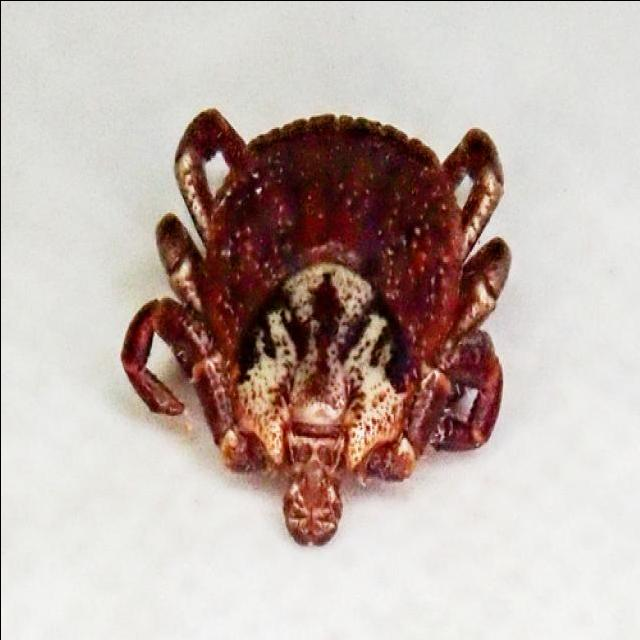Dermacentor Reticulatus-F: (119, 108, 512, 546)
